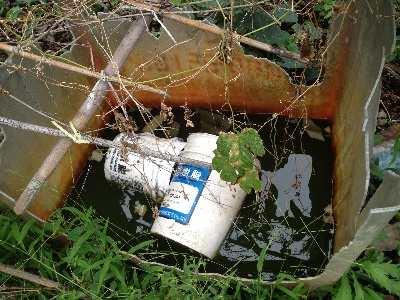box: (1, 2, 400, 297)
bucket: (150, 130, 262, 262), (100, 126, 188, 203)
